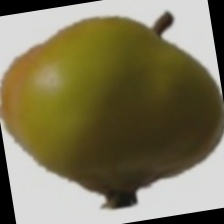apple: (22, 6, 192, 202)
